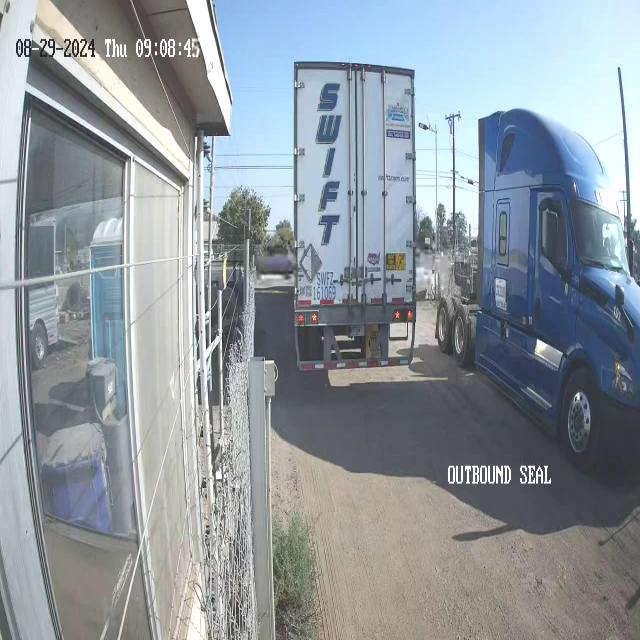CONTAINER: (292, 60, 415, 330)
